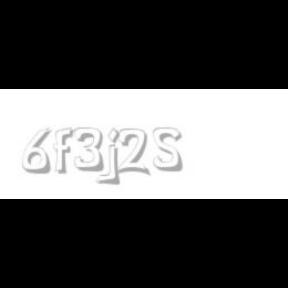2: (115, 128, 149, 176)
3: (74, 128, 106, 172)
6: (22, 128, 51, 176)
S: (153, 128, 184, 172)
f: (53, 128, 77, 174)
j: (106, 128, 134, 186)
